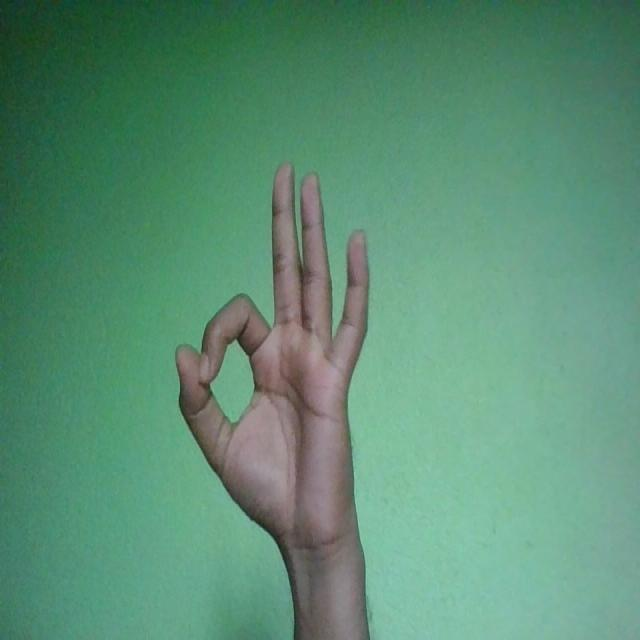Rock On: (175, 160, 370, 563)
